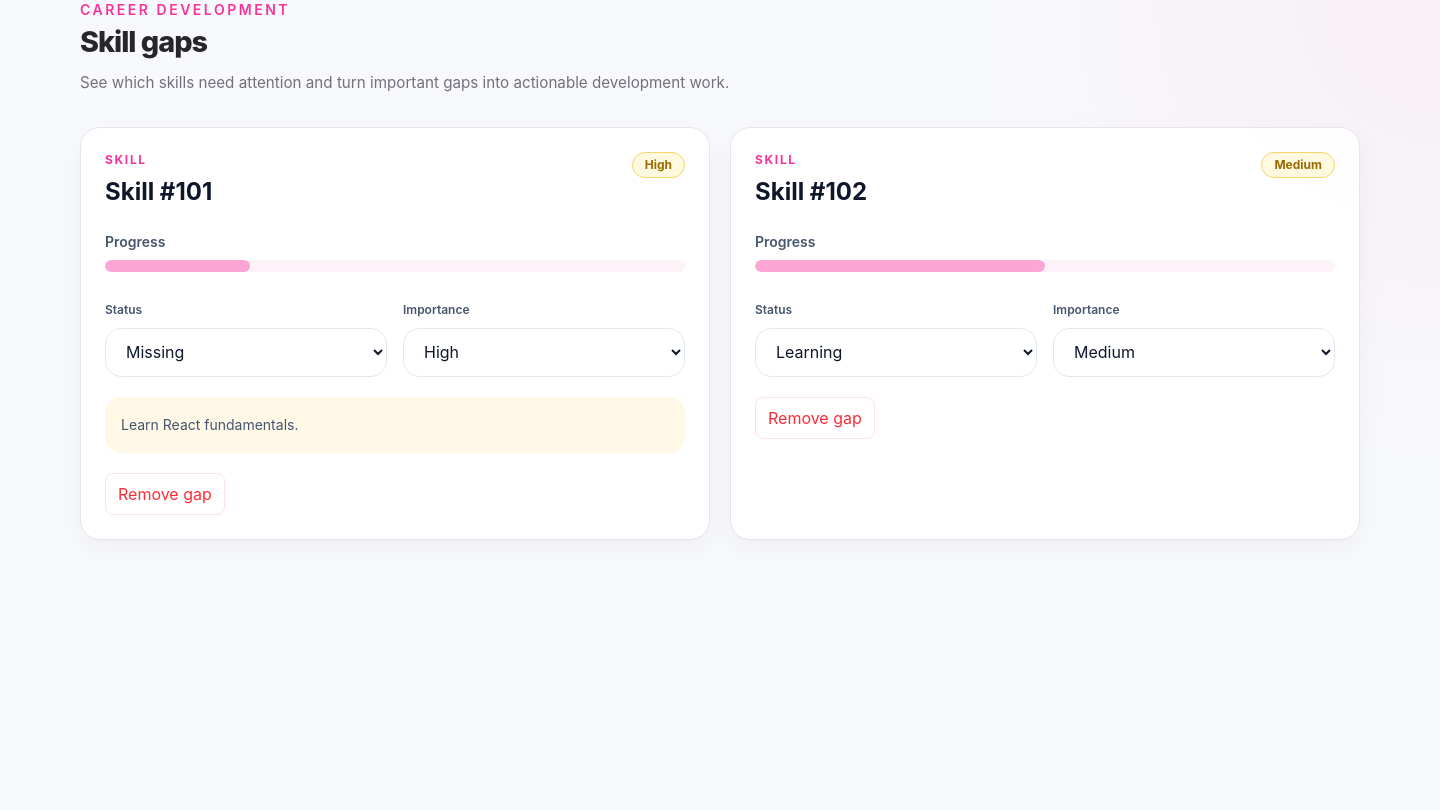
it: SkillGaps › opens deletion confirmation dialog
Expected: the heading "Skill #101" is shown, [105, 176, 212, 208]
Click the button "Remove gap" below "Learn React fundamentals.": point(165, 494) [105, 473, 225, 515]
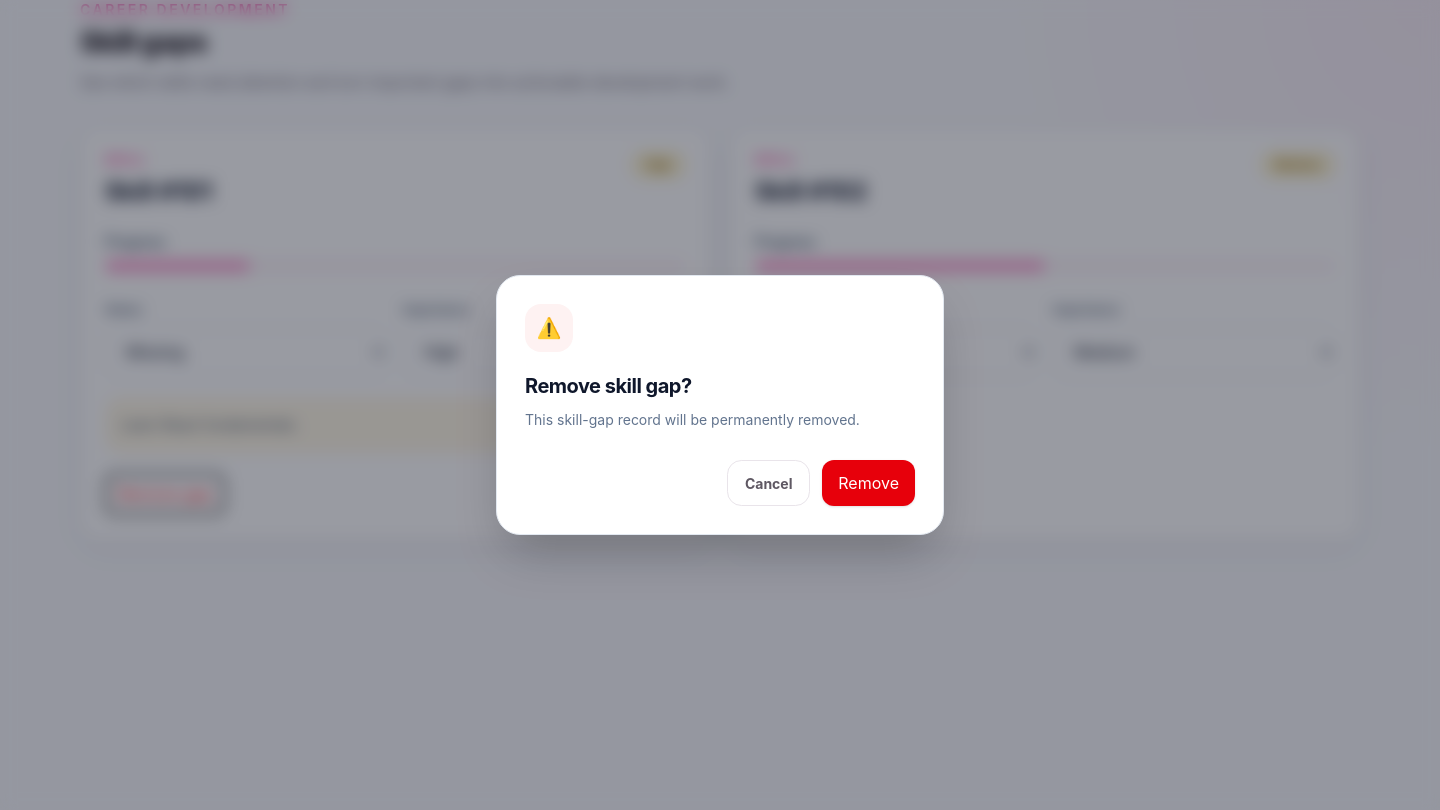
Result: the dialog is shown
Result: the heading "Remove skill gap?" is shown at [525, 374, 692, 398]
Result: the text "This skill-gap record will be permanently removed." is shown at [525, 408, 915, 432]
